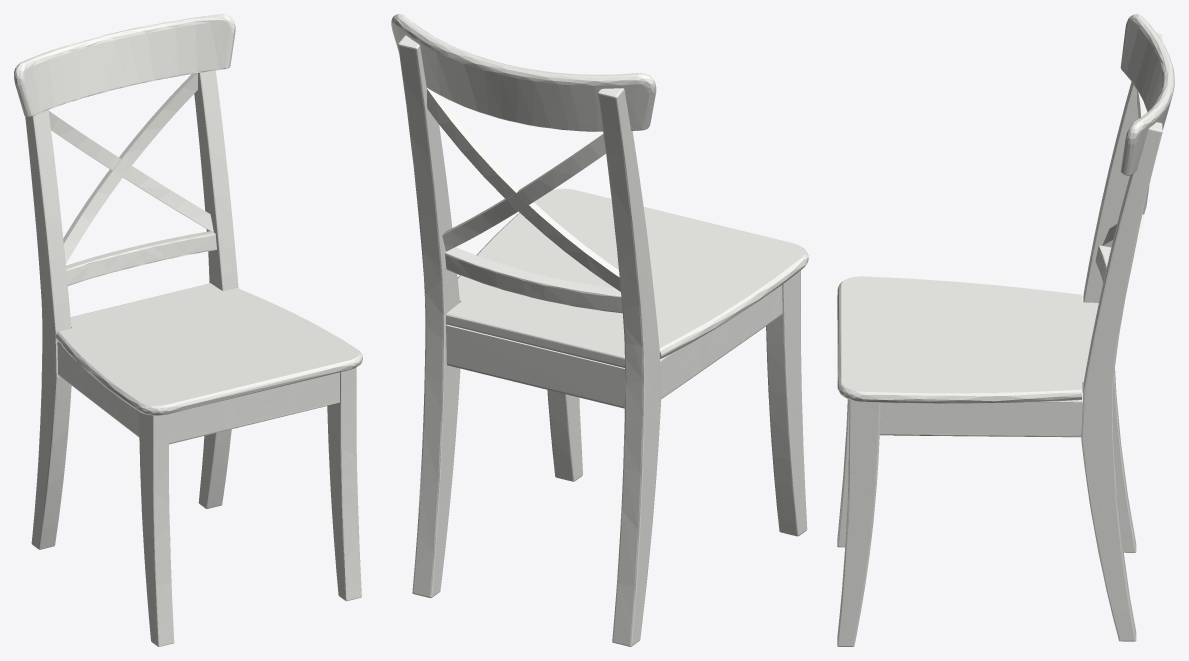
The picture shows the model from 3 angles, left to right: view 1: azimuth 30°, elevation 25°; view 2: azimuth 150°, elevation 25°; view 3: azimuth 270°, elevation 25°; orthographic projection. The views are drawn at different scales.
Visible parts, largest first — view 1: ASY_ART_80569998_S01_NV01_NODE_ID_7bdccbbc-2451-49ff-a3a4-a8; view 2: ASY_ART_80569998_S01_NV01_NODE_ID_7bdccbbc-2451-49ff-a3a4-a8; view 3: ASY_ART_80569998_S01_NV01_NODE_ID_7bdccbbc-2451-49ff-a3a4-a8.
Boxes of the visible parts, x1=… form: ASY_ART_80569998_S01_NV01_NODE_ID_7bdccbbc-2451-49ff-a3a4-a8: x1=14, y1=14, x2=362, y2=646; ASY_ART_80569998_S01_NV01_NODE_ID_7bdccbbc-2451-49ff-a3a4-a8: x1=391, y1=14, x2=808, y2=646; ASY_ART_80569998_S01_NV01_NODE_ID_7bdccbbc-2451-49ff-a3a4-a8: x1=837, y1=14, x2=1174, y2=646.
Bounding box in the file's own units: 0.4399 × 0.91 × 0.5301.
Materials: 1 (1 with a texture image).
